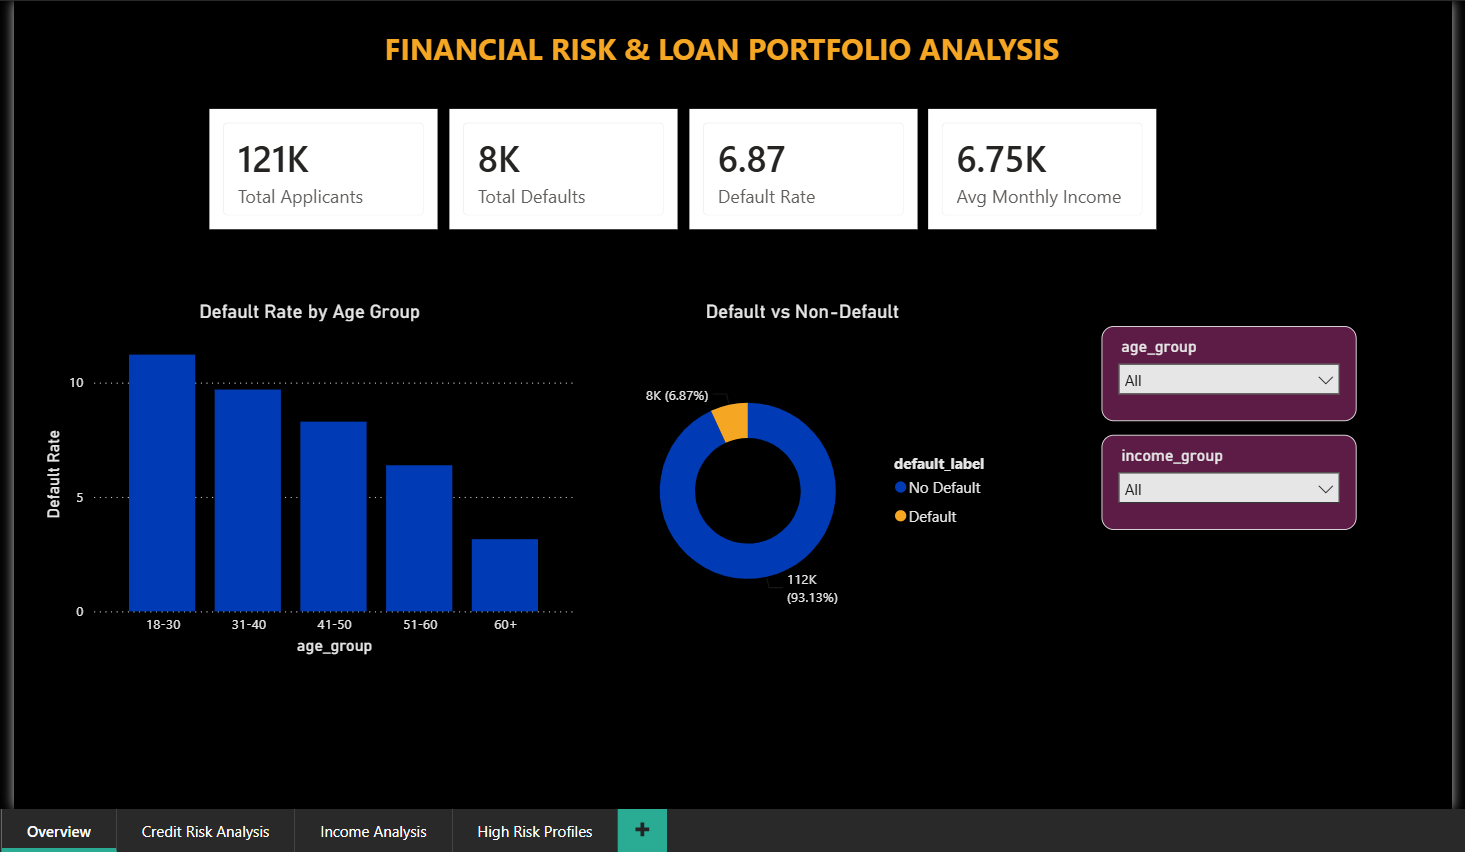

What the dashboard file says about the page in this screenshot:
{"tool":"powerbi","page":{"name":"Overview","canvas":[1280,720],"ordinal":0},"visuals":[{"type":"textbox","box":[325.2,18.4,630.7,56.4],"z":0},{"type":"cardVisual","fields":{"Data":["credit_risk_clean.Total Applicants"]},"box":[169.3,90.8,213.5,117.8],"z":1000},{"type":"cardVisual","fields":{"Data":["credit_risk_clean.Total Defaults"]},"box":[382.8,90.8,213.5,117.8],"z":2000},{"type":"cardVisual","fields":{"Data":["credit_risk_clean.Default Rate"]},"box":[596.3,90.8,213.5,117.8],"z":3000},{"type":"cardVisual","fields":{"Data":["credit_risk_clean.Avg Monthly Income"]},"box":[809.8,90.8,213.5,117.8],"z":4000},{"type":"donutChart","title":"Default vs Non-Default","fields":{"Y":["credit_risk_clean.Total Applicants"],"Category":["credit_risk_clean.default_label"]},"box":[519,266.3,366.9,321.5],"z":5000},{"type":"slicer","fields":{"Values":["credit_risk_clean.age_group"]},"box":[968.3,289.1,227,84.7],"z":6000},{"type":"slicer","fields":{"Values":["credit_risk_clean.income_group"]},"box":[968.3,386,227,84.7],"z":7000},{"type":"clusteredColumnChart","title":"Default Rate by Age Group","fields":{"Category":["credit_risk_clean.age_group"],"Y":["credit_risk_clean.Default Rate"]},"box":[22.1,266.3,482.2,321.5],"z":8000}]}

Visuals, with their boxes on the page's 1280x720 design canvas (x1, y1, x2, y2). These are canvas units, not pixel positions in the 1465x852 screenshot, which may show the page scaled, cropped or inside an application window:
textbox: <region>325, 18, 956, 75</region>
cardVisual - credit_risk_clean.Total Applicants: <region>169, 91, 383, 209</region>
cardVisual - credit_risk_clean.Total Defaults: <region>383, 91, 596, 209</region>
cardVisual - credit_risk_clean.Default Rate: <region>596, 91, 810, 209</region>
cardVisual - credit_risk_clean.Avg Monthly Income: <region>810, 91, 1023, 209</region>
"Default vs Non-Default" donutChart: <region>519, 266, 886, 588</region>
slicer - credit_risk_clean.age_group: <region>968, 289, 1195, 374</region>
slicer - credit_risk_clean.income_group: <region>968, 386, 1195, 471</region>
"Default Rate by Age Group" clusteredColumnChart: <region>22, 266, 504, 588</region>
